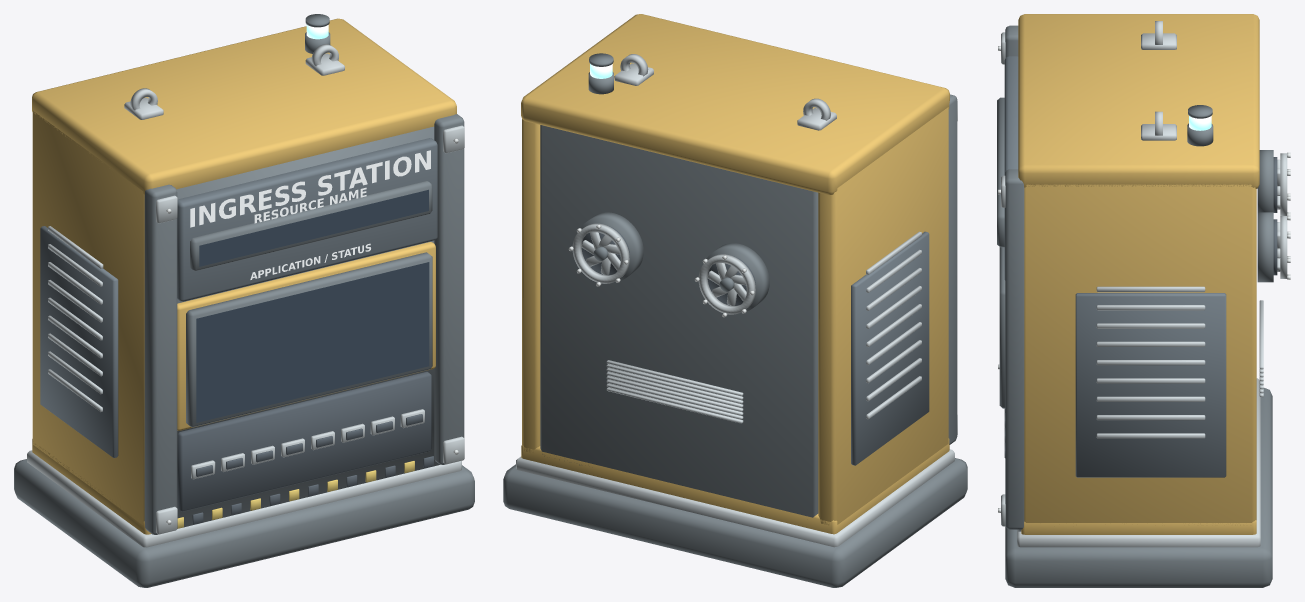
File: ingress_station_ultra.glb
3 renders of one model, left to right at view 1: azimuth 30°, elevation 25°; view 2: azimuth 150°, elevation 25°; view 3: azimuth 270°, elevation 25°, orthographic. The views are drawn at different scales.
Visible parts, largest first — view 1: Roof_gold, LiveViewSurface_glass, SideWall_gold, CornerPost_frame, Skid_frame, PatchPanel_black, FrontHeader_graphite, SideServicePanel_graphite, SealFront_frame, SkidDeck_steel, LiveViewSurfaceFrame_frame, ResourceNameSurface_glass (+14 smaller); view 2: BackWall_frame, Roof_gold, SideWall_gold, Skid_frame, SideServicePanel_graphite, SkidDeck_steel, KickPlate_gold, RearFan_steel, RearVent_steel, CornerPost_frame, SideLouver_steel, RearFan_frame (+3 smaller); view 3: SideWall_gold, Roof_gold, SideServicePanel_graphite, Skid_frame, CornerPost_frame, SideLouver_steel, SkidDeck_steel, KickPlate_gold, RearFan_frame, FrontHeader_graphite, RearFan_steel, LiveViewSurfaceFrame_frame (+7 smaller).
Boxes of the visible parts, x1,y1,x2,y2 form: Roof_gold: [32, 18, 456, 194]; LiveViewSurface_glass: [196, 262, 429, 422]; SideWall_gold: [32, 111, 144, 524]; CornerPost_frame: [144, 114, 464, 534]; Skid_frame: [14, 459, 474, 587]; PatchPanel_black: [177, 372, 431, 511]; FrontHeader_graphite: [177, 138, 437, 301]; SideServicePanel_graphite: [40, 226, 118, 457]; SealFront_frame: [176, 126, 439, 527]; SkidDeck_steel: [27, 450, 461, 547]; LiveViewSurfaceFrame_frame: [186, 252, 432, 427]; ResourceNameSurface_glass: [199, 189, 428, 266]; BackWall_frame: [540, 125, 818, 517]; Roof_gold: [521, 14, 949, 195]; SideWall_gold: [522, 107, 948, 525]; Skid_frame: [503, 458, 967, 587]; SideServicePanel_graphite: [851, 231, 929, 465]; SkidDeck_steel: [516, 449, 954, 547]; KickPlate_gold: [521, 438, 949, 534]; RearFan_steel: [572, 223, 755, 314]; RearVent_steel: [606, 360, 743, 423]; CornerPost_frame: [948, 94, 957, 444]; SideLouver_steel: [866, 231, 921, 419]; RearFan_frame: [580, 212, 769, 312]; SideWall_gold: [1024, 184, 1256, 525]; Roof_gold: [1018, 14, 1259, 188]; SideServicePanel_graphite: [1075, 293, 1226, 477]; Skid_frame: [1005, 388, 1272, 587]; CornerPost_frame: [1005, 25, 1024, 529]; SideLouver_steel: [1096, 286, 1205, 438]; SkidDeck_steel: [1017, 378, 1260, 547]; KickPlate_gold: [1021, 520, 1256, 534]; RearFan_frame: [1257, 150, 1273, 282]; FrontHeader_graphite: [1004, 56, 1018, 280]; RearFan_steel: [1277, 153, 1287, 278]; LiveViewSurfaceFrame_frame: [999, 247, 1005, 408].
Bounding box in the file's own units: 2 × 2.48 × 1.47.
